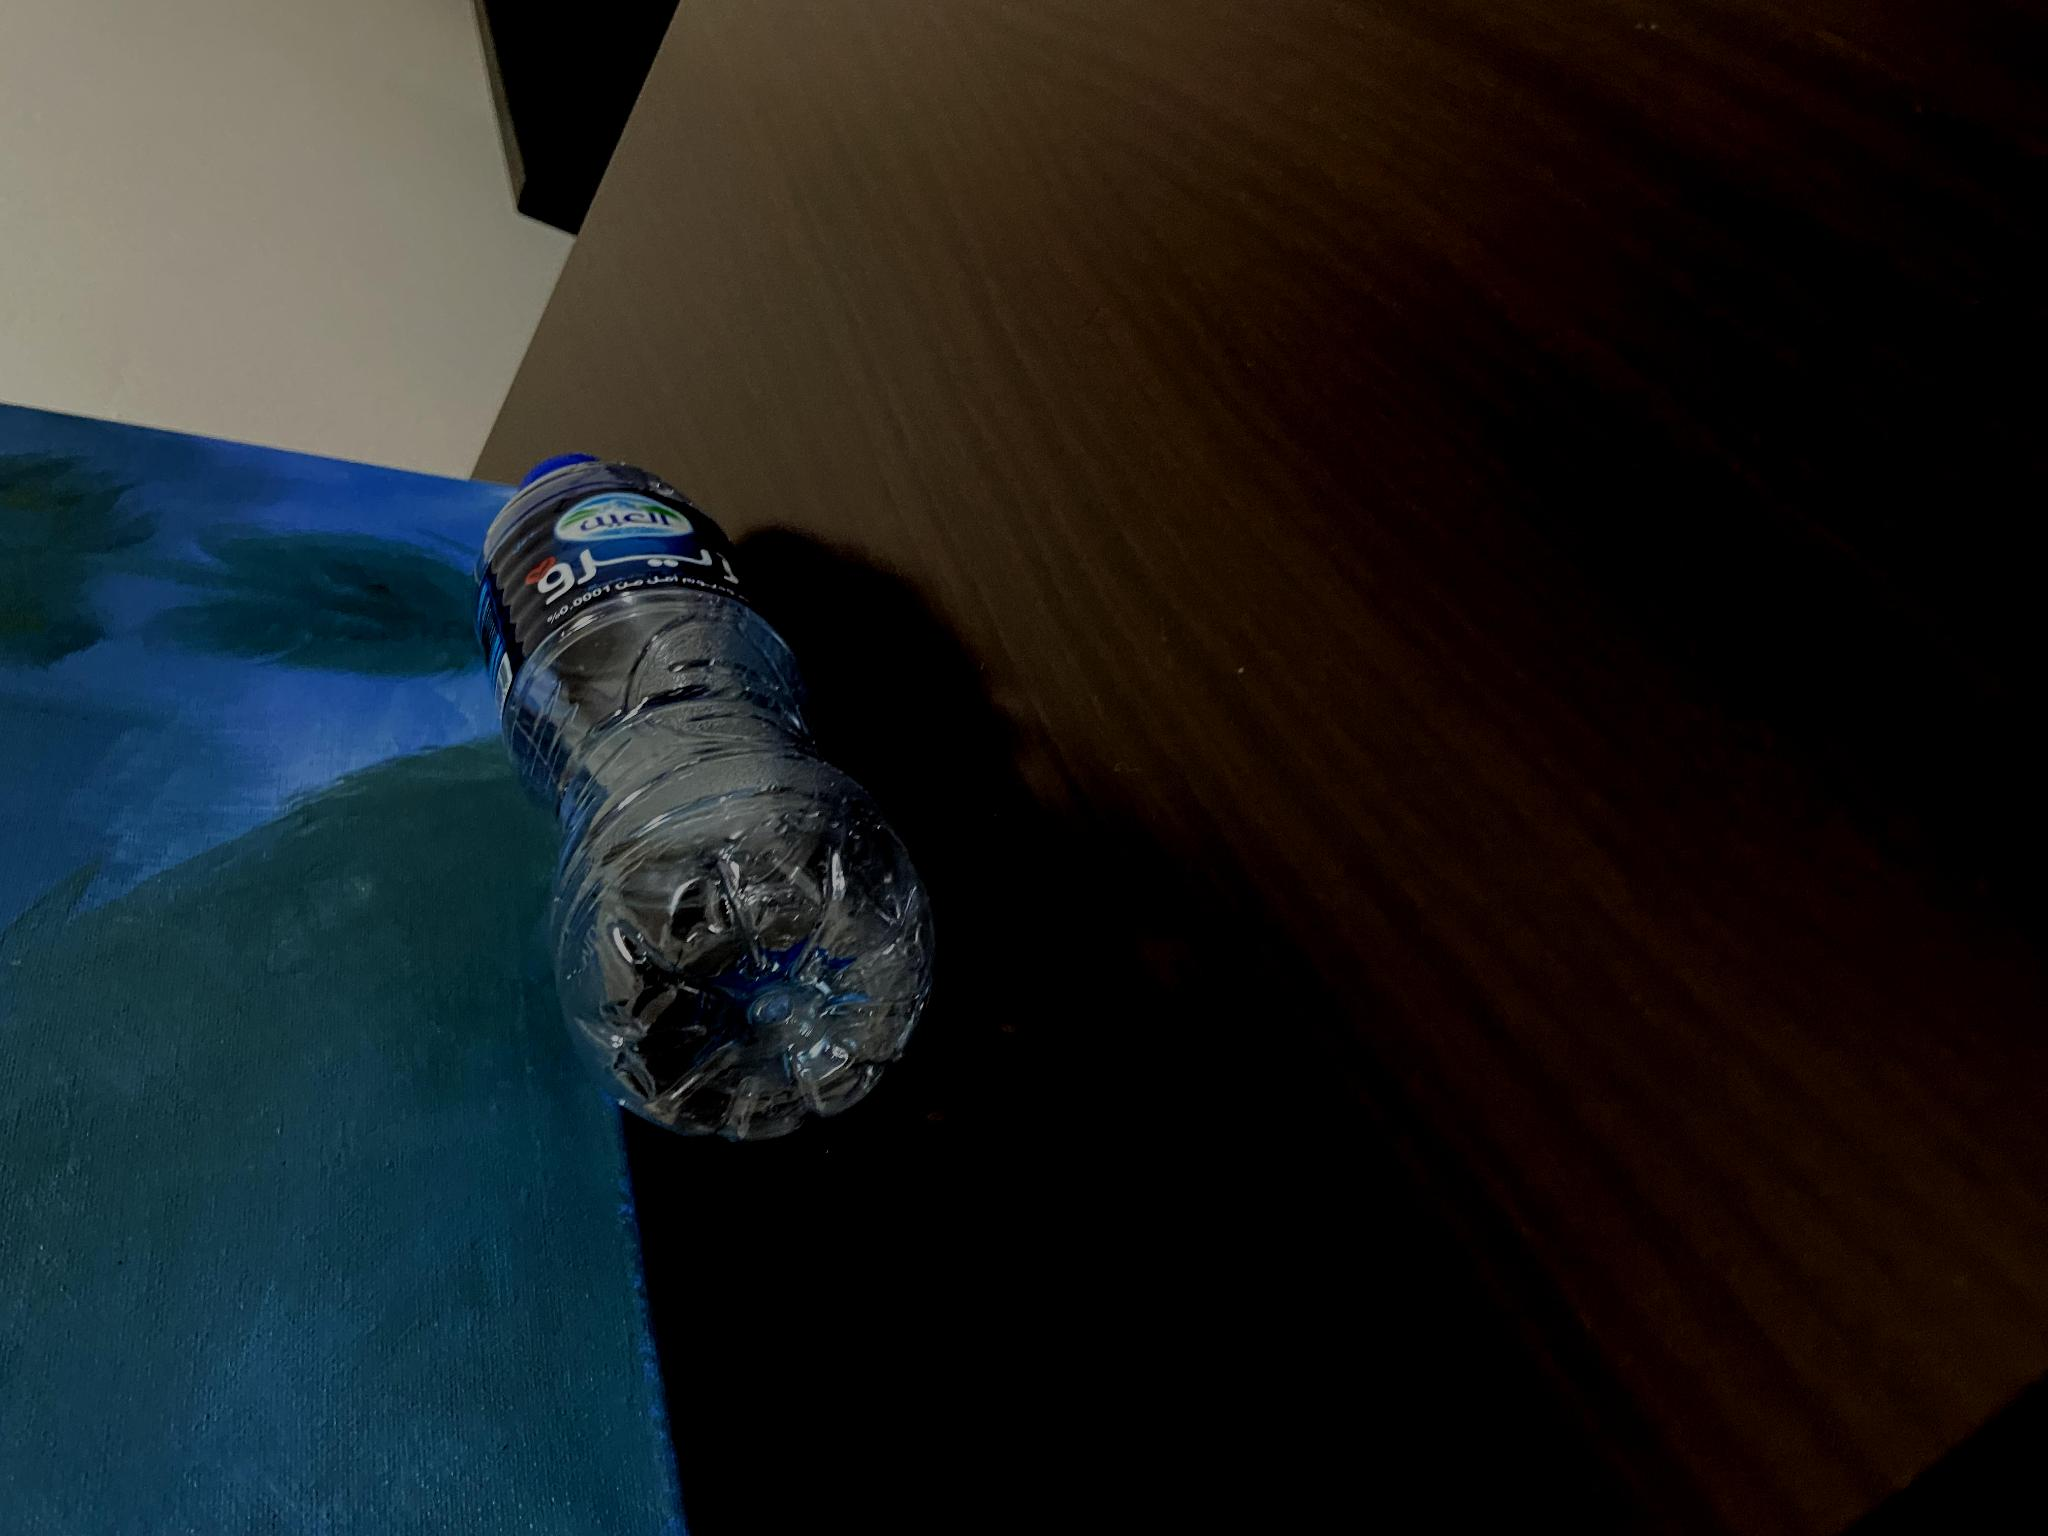bottle: (460, 447, 953, 1154)
